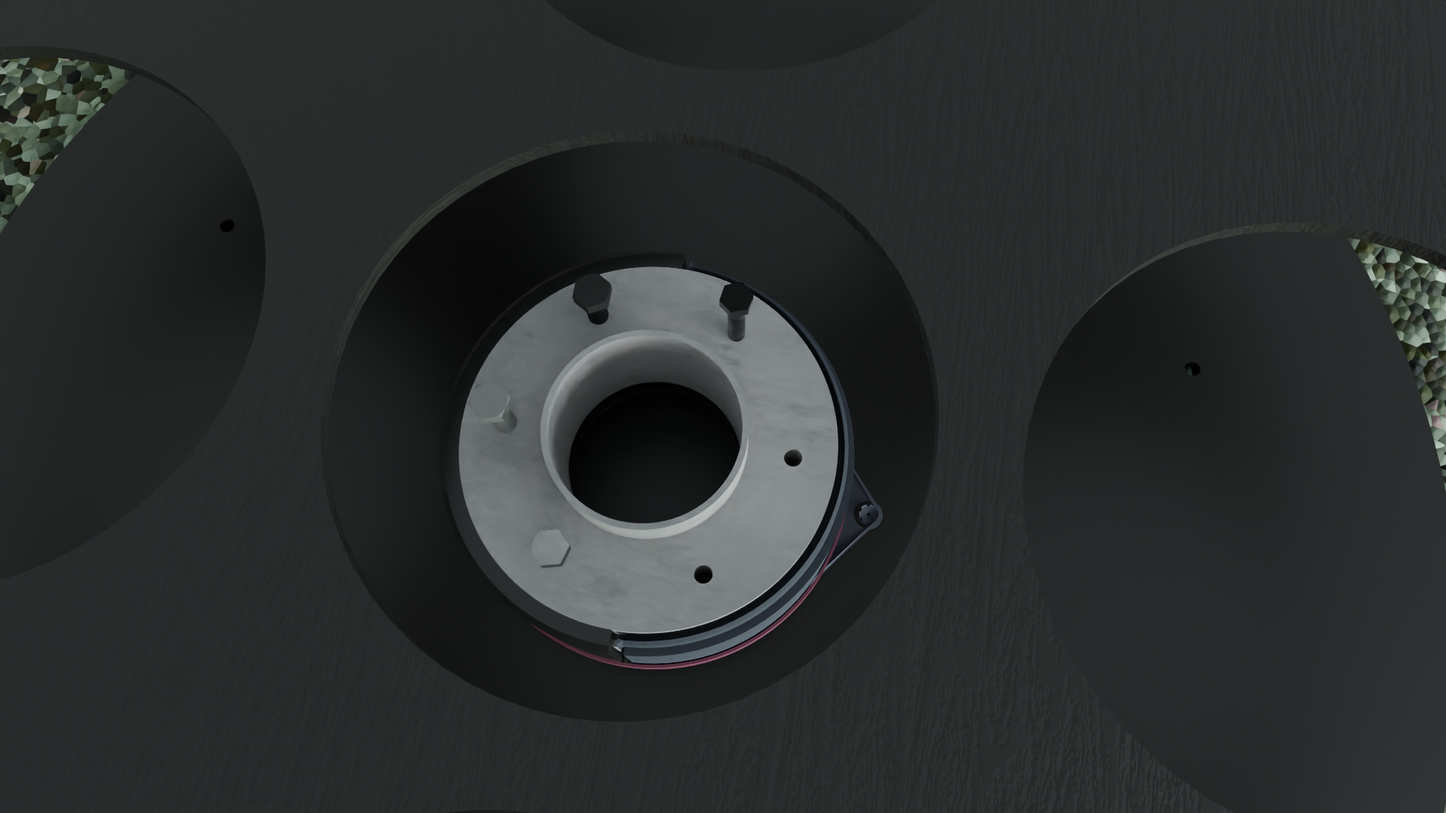bolt: (468, 382, 511, 420), (529, 529, 569, 566), (572, 272, 611, 309), (719, 282, 753, 313)
